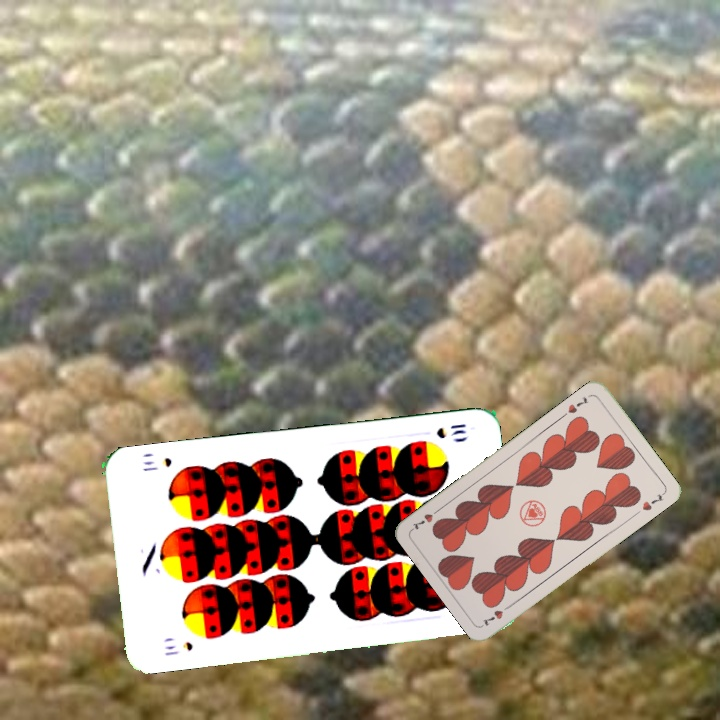H7: (478, 600, 514, 629), (564, 392, 592, 416)
S10: (433, 420, 468, 441), (161, 637, 195, 658)
